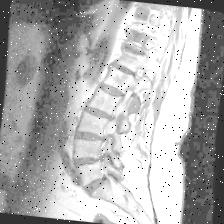disc: (78, 171, 116, 202), (98, 80, 128, 100)
hdisc: (80, 100, 118, 123), (72, 127, 112, 147), (71, 152, 110, 172), (118, 40, 150, 62), (110, 60, 139, 82)
